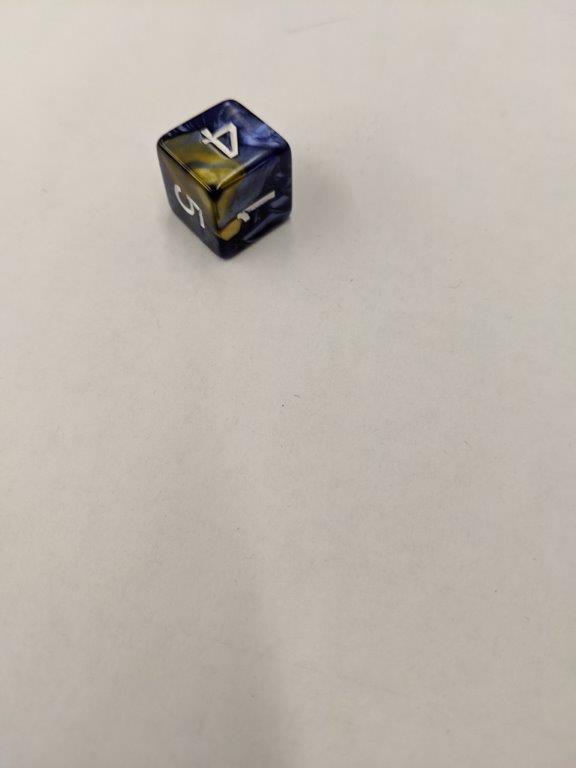d6-4: (155, 96, 295, 263)
